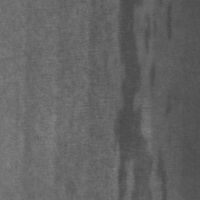inclusion: (114, 2, 154, 199), (153, 148, 174, 199)
